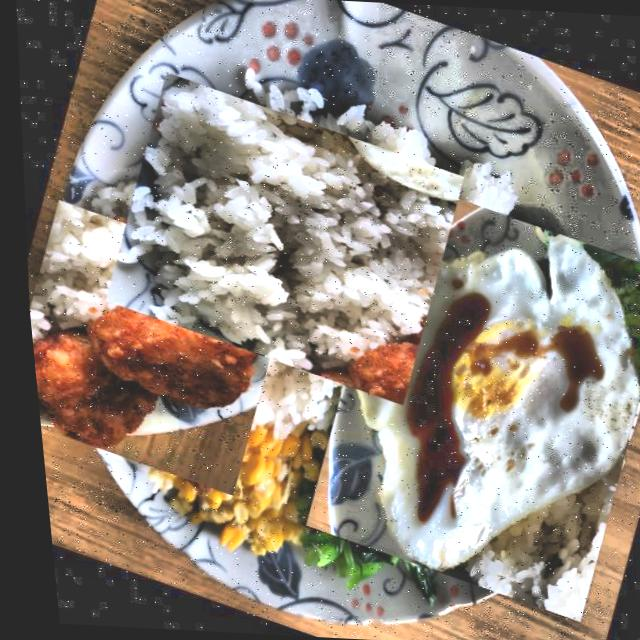Food: (262, 171, 640, 628), (85, 59, 472, 418), (15, 195, 303, 500)
